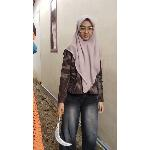Celurit: (50, 100, 74, 150)
